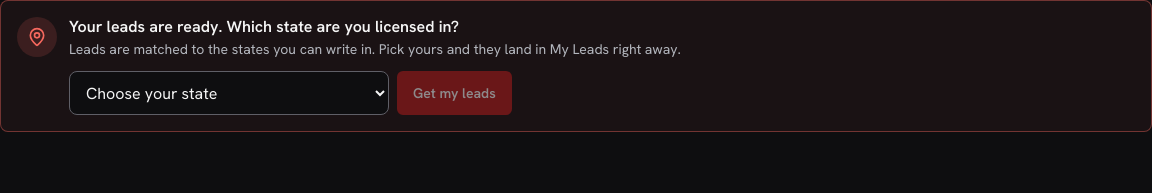
Test: LeadStatePrompt › asks the question, saves the chosen states, and says how many leads landed
This screenshot has width=1152, height=193.
Later steps or results of the test are not shown.
Check: the text "Your leads are ready. Which state are you licensed in?" is shown, box [69, 16, 459, 37]
Check: the button "Get my leads" is disabled, box [397, 71, 512, 115]
Select "Wisconsin" in the dropdown with test id "lead-state-select". click: [229, 93]
box: [69, 71, 389, 115]
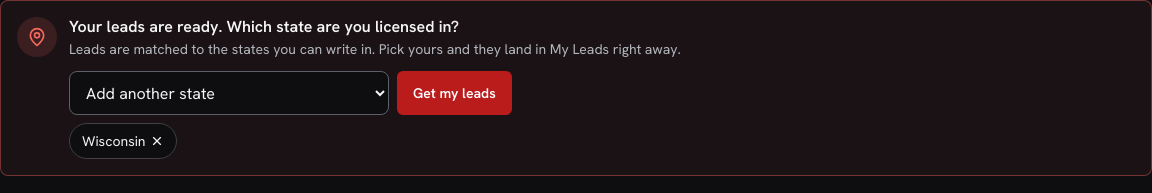
Select "Minnesota" in the dropdown with test id "lead-state-select". click: [229, 93]
box: [69, 71, 389, 115]
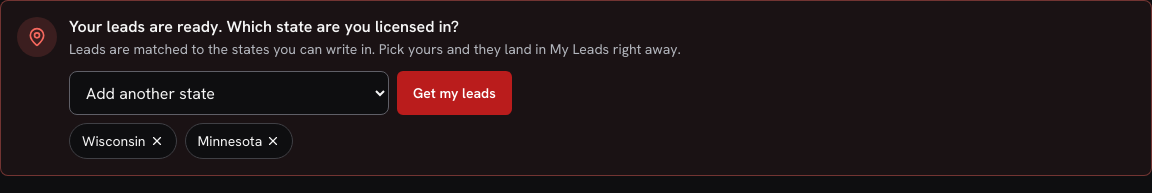
Check: the button with aria-label "Remove Wisconsin" is shown, box [69, 123, 176, 159]
